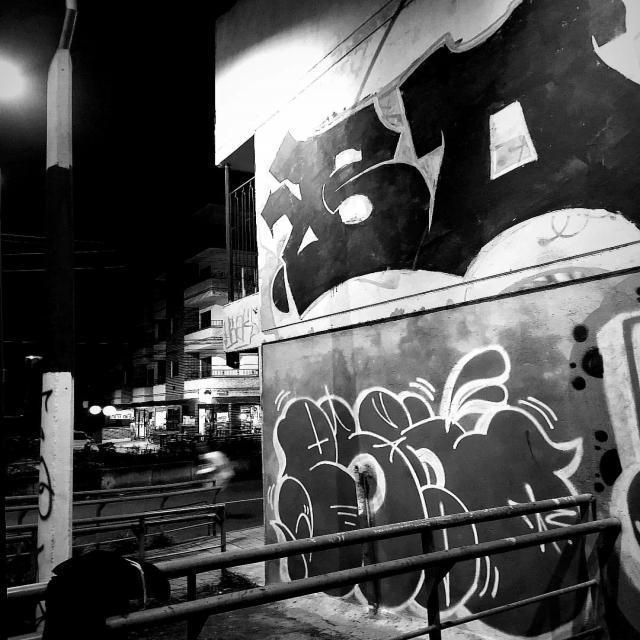nonspitting: (260, 0, 640, 319), (266, 345, 592, 638), (34, 386, 54, 522)
